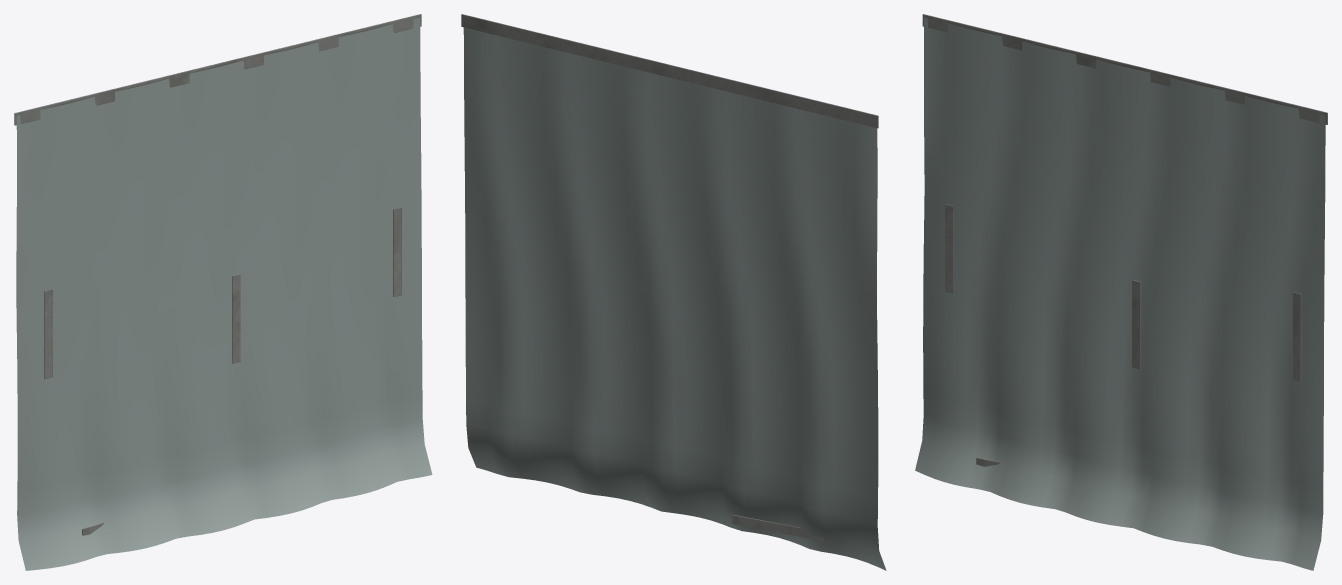
File: skr_folia_sciana.glb
The picture shows the model from 3 angles, left to right: view 1: azimuth 30°, elevation 25°; view 2: azimuth 150°, elevation 25°; view 3: azimuth 330°, elevation 25°; orthographic projection. The views are drawn at different scales.
Visible parts, largest first — view 1: folia, Tasma; view 2: folia, Tasma; view 3: folia, Tasma.
Part boxes in pixels (bbox=[...]): folia: bbox=[16, 17, 432, 570]; Tasma: bbox=[14, 14, 421, 535]; folia: bbox=[463, 27, 886, 570]; Tasma: bbox=[461, 14, 878, 540]; folia: bbox=[915, 17, 1325, 570]; Tasma: bbox=[922, 14, 1327, 466].
Size of the model in its own units: 2.42 by 2.56 by 0.1813.
Materials: 2 (1 with a texture image).
